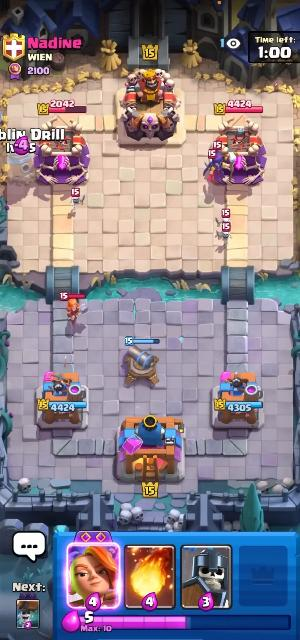ally_building: (122, 345, 160, 386)
enemy_melee: (66, 299, 89, 326), (69, 193, 85, 209), (215, 230, 233, 243), (215, 217, 232, 228), (204, 159, 212, 167)
enemy_ranged: (203, 152, 236, 183)
